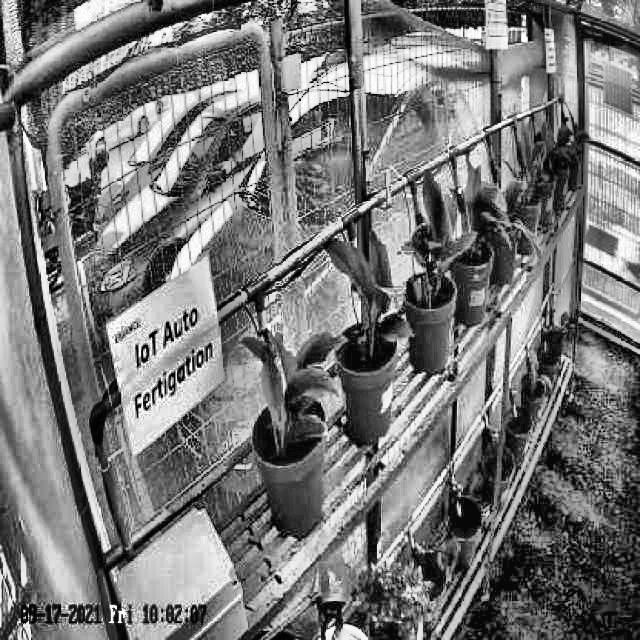plants: (240, 328, 346, 442), (325, 230, 413, 344), (402, 168, 473, 288), (467, 161, 507, 256)
